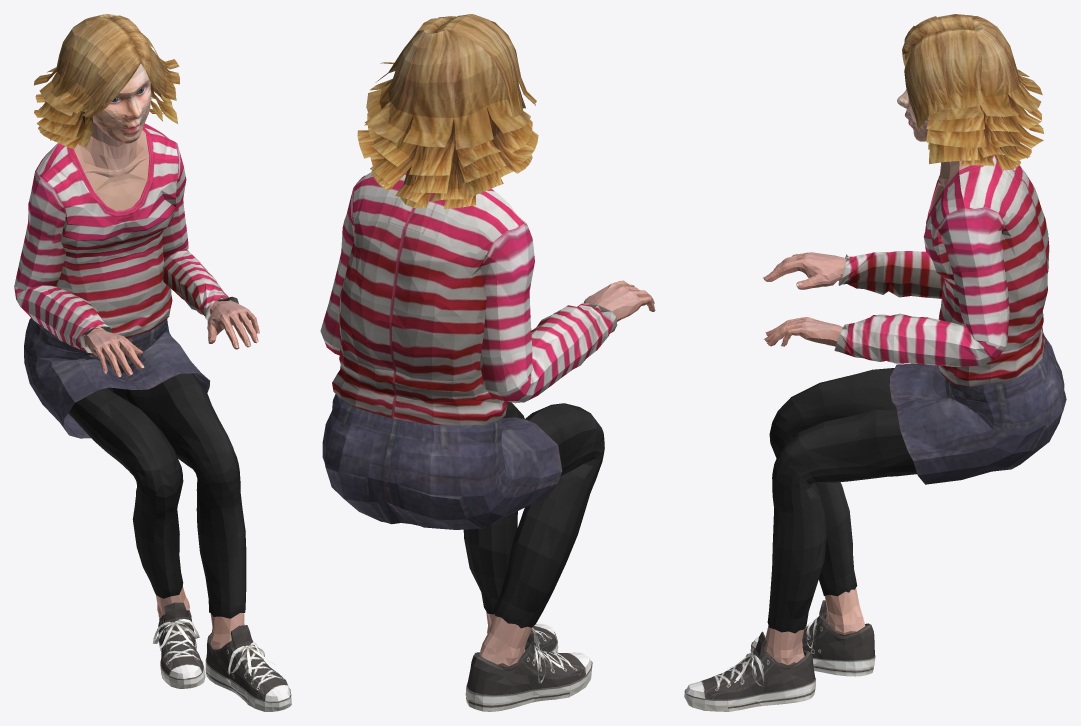
The model's file is girlSittingTable.obj.
The picture shows the model from 3 angles, left to right: view 1: azimuth 30°, elevation 25°; view 2: azimuth 150°, elevation 25°; view 3: azimuth 270°, elevation 25°; orthographic projection. The views are drawn at different scales.
Visible parts, largest first — view 1: RL_Lower, RL_Upper, RL_HairMesh, RL_Shoes, RL_Hands, RL_Face; view 2: RL_Upper, RL_Lower, RL_HairMesh, RL_Shoes, RL_Hands; view 3: RL_Lower, RL_Upper, RL_HairMesh, RL_Shoes, RL_Hands.
Boxes of the visible parts, <box> form: RL_Lower: <box>24,318,246,649</box>; RL_Upper: <box>14,122,238,353</box>; RL_HairMesh: <box>34,14,179,149</box>; RL_Shoes: <box>152,602,291,711</box>; RL_Hands: <box>86,300,259,377</box>; RL_Face: <box>92,64,151,143</box>; RL_Upper: <box>320,172,617,425</box>; RL_Lower: <box>322,394,604,666</box>; RL_HairMesh: <box>357,14,538,209</box>; RL_Shoes: <box>465,623,592,711</box>; RL_Hands: <box>583,280,655,321</box>; RL_Lower: <box>764,333,1066,665</box>; RL_Upper: <box>834,155,1049,386</box>; RL_HairMesh: <box>902,14,1043,170</box>; RL_Shoes: <box>684,600,875,711</box>; RL_Hands: <box>763,252,844,346</box>.
Bounding box in the file's own units: 39.14 × 130 × 68.04.
Materials: 10 (10 with a texture image).
